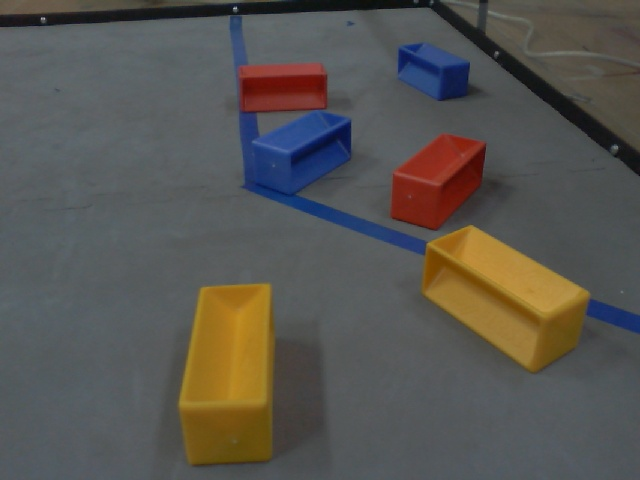BlueSample: (242, 108, 356, 195), (391, 36, 471, 102)
RedSample: (388, 133, 488, 227), (236, 57, 331, 113)
YellowSample: (416, 221, 590, 374), (178, 280, 281, 466)
